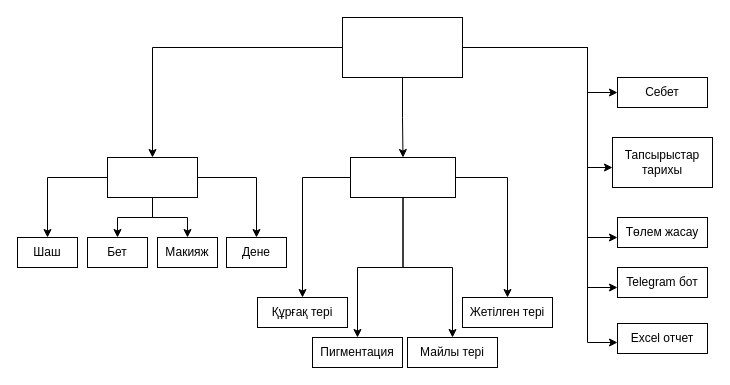
Image size: 730x385. Some labels were removed from this diagram. Here are the shapes that lost their labels. From the top down, the centre of each, then its label:
pixel 402 47: Басты бет
pixel 152 177: Каталог
pixel 403 177: Ұсыныс
